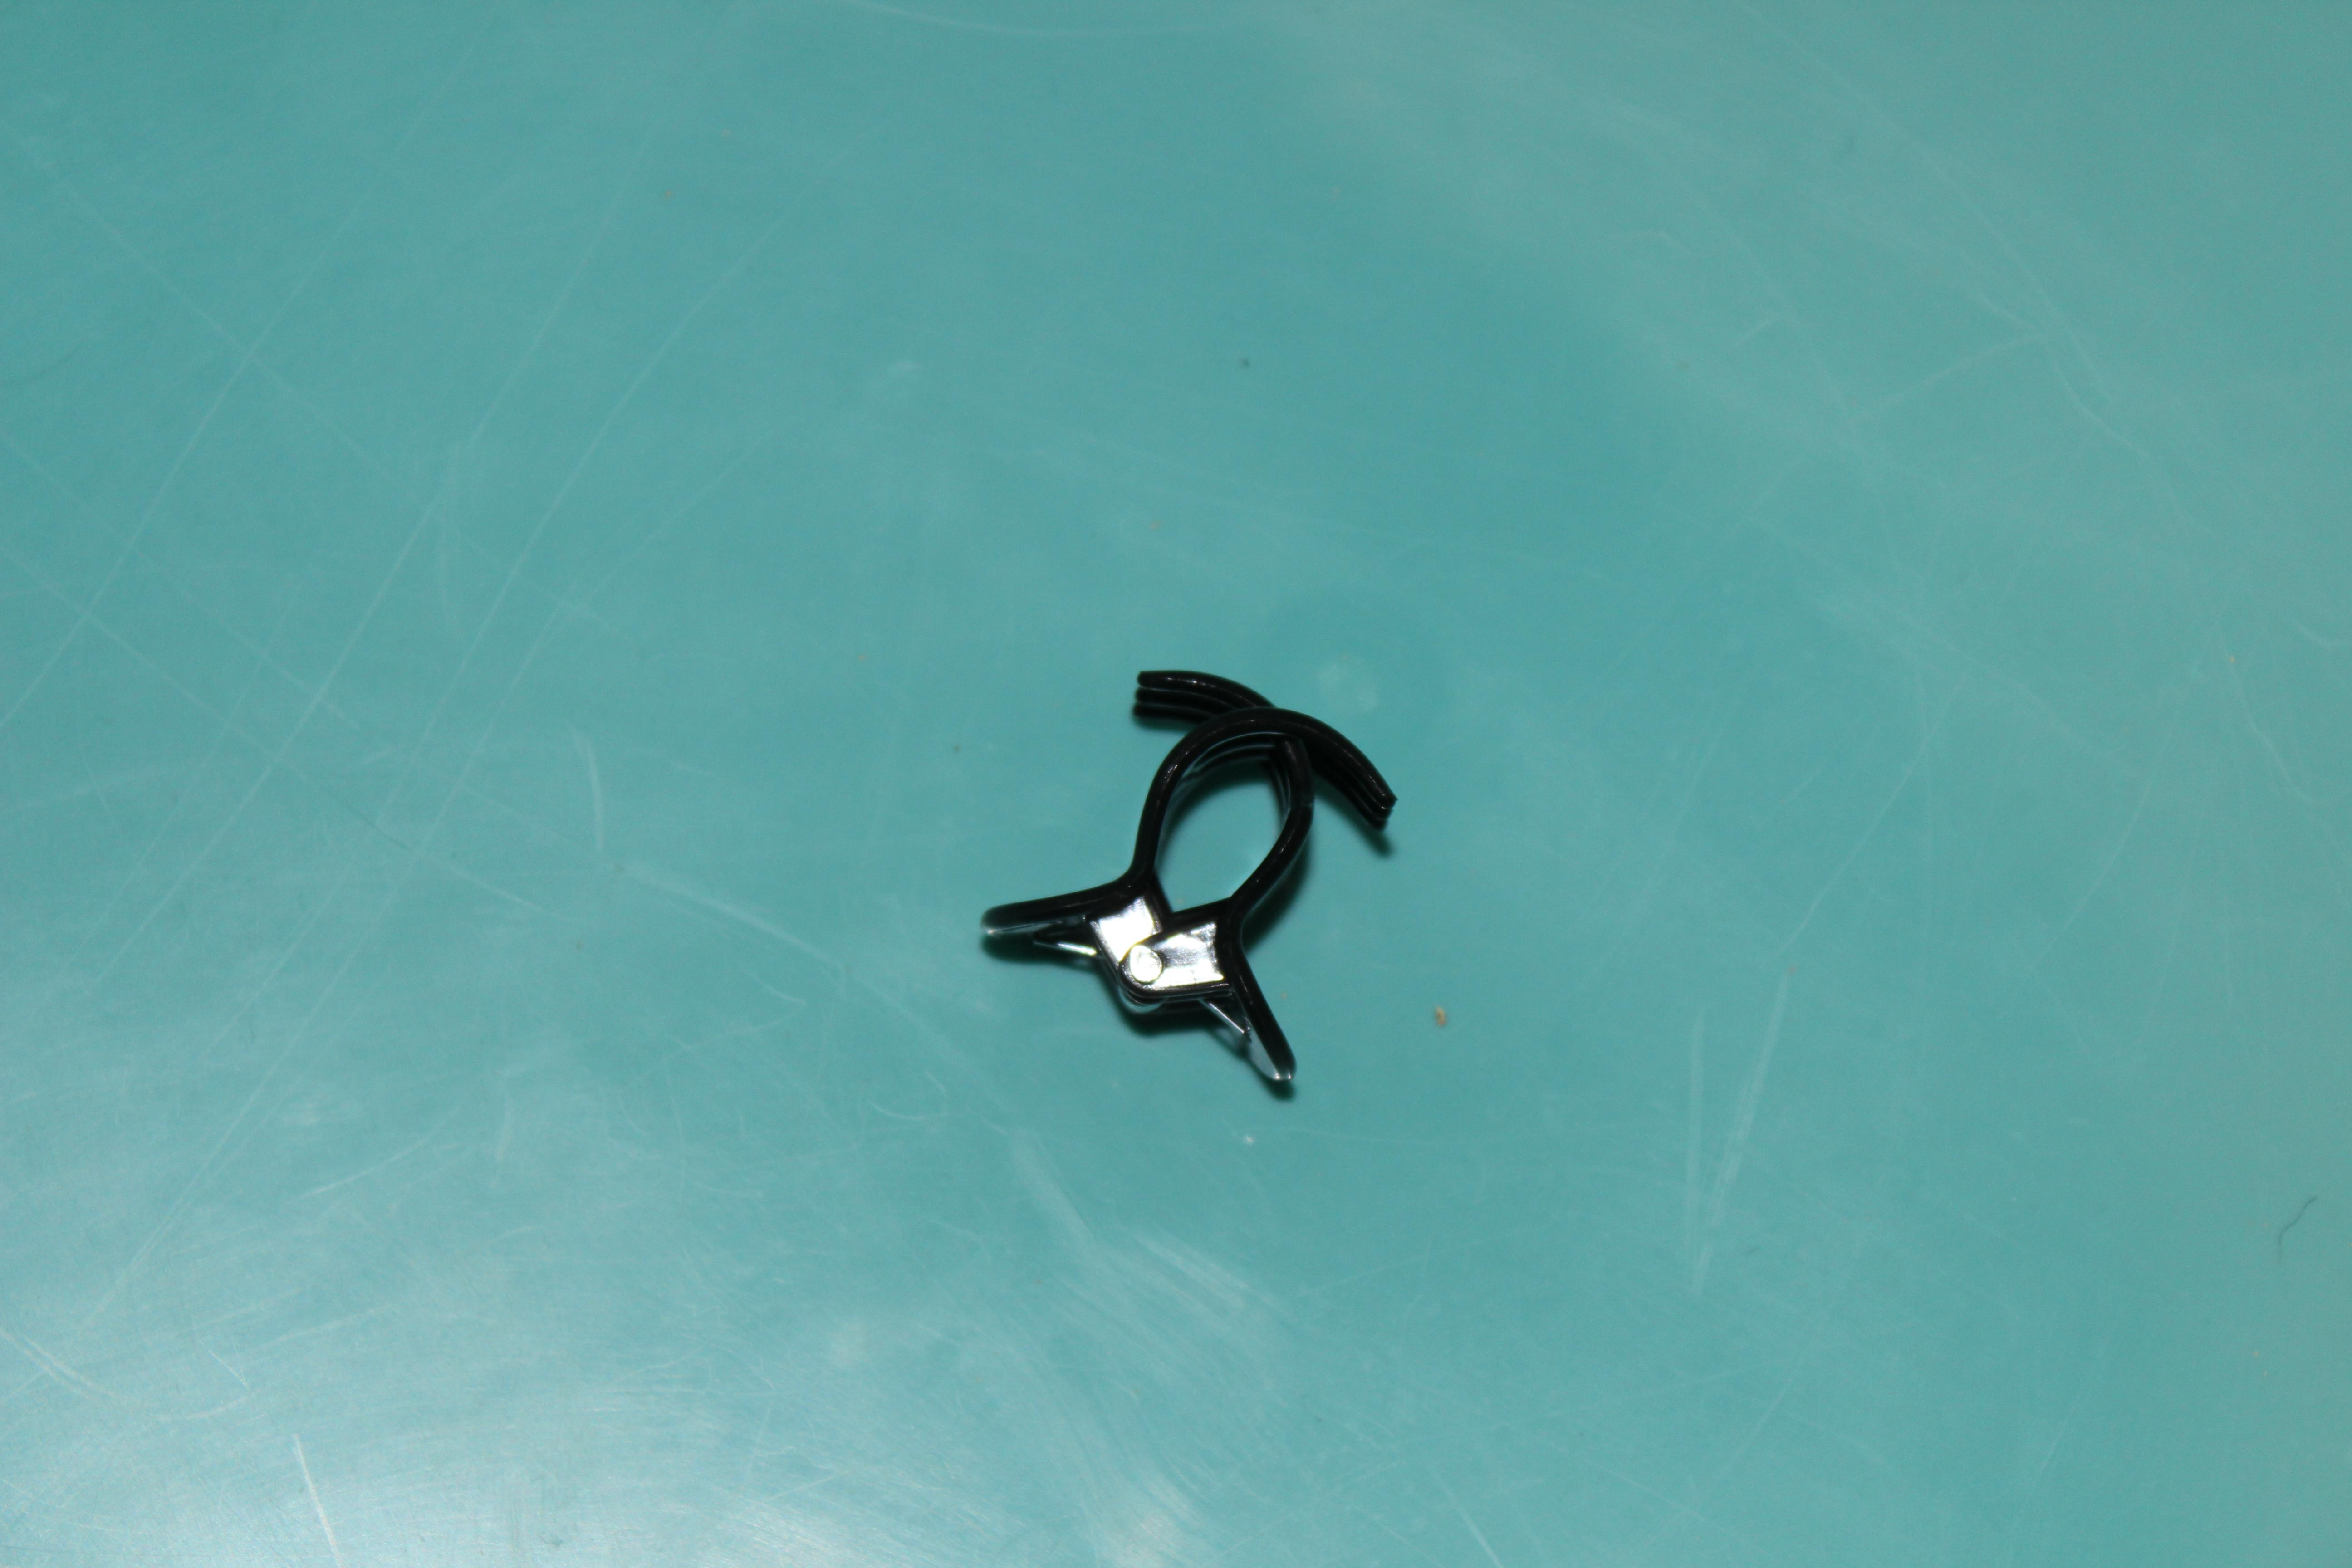hairClip: (963, 620, 1458, 1109)
